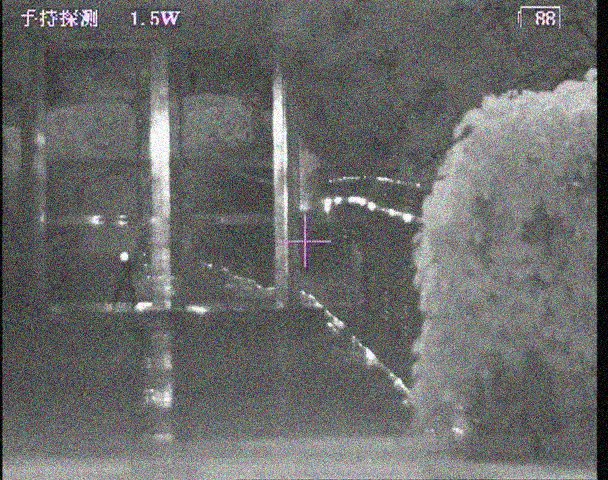my: (118, 251, 129, 262)
